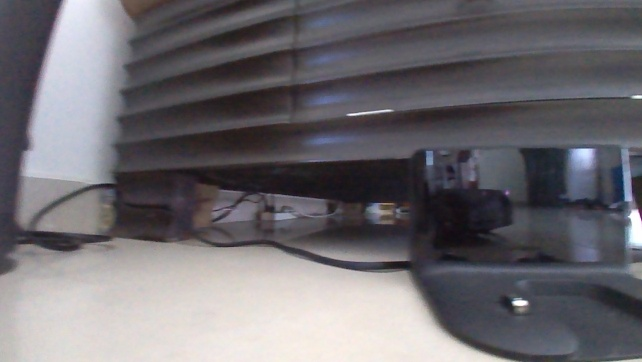charger: (403, 141, 641, 361)
wire: (189, 229, 409, 272), (21, 179, 121, 255), (207, 189, 343, 224)
